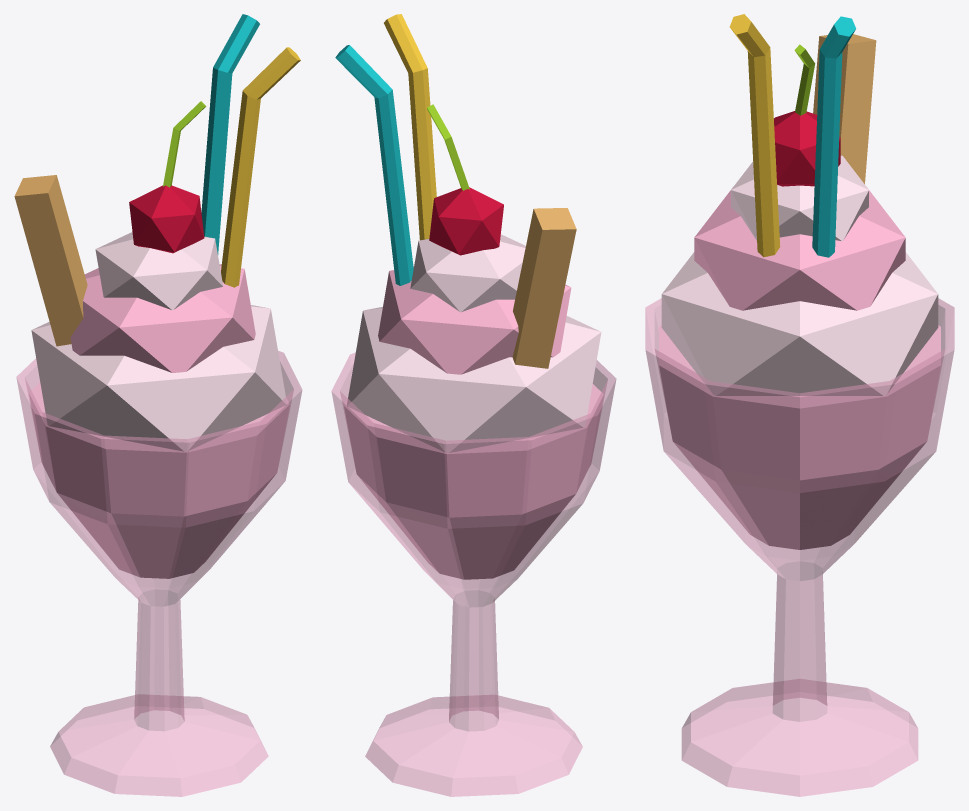
The picture shows the model from 3 angles, left to right: view 1: azimuth 30°, elevation 25°; view 2: azimuth 150°, elevation 25°; view 3: azimuth 270°, elevation 25°; orthographic projection. The views are drawn at different scales.
Parts seen in each view (by area): view 1: goblet, shake, cream_0, cream_1, wafer, cream_2, straw_1, straw_0, cherry, cherry_stem; view 2: goblet, shake, cream_0, cream_1, wafer, cream_2, straw_0, straw_1, cherry, cherry_stem; view 3: goblet, shake, cream_0, cream_1, straw_1, straw_0, cream_2, wafer, cherry, cherry_stem.
Part boxes in pixels (left/top/right/bottom): goblet: left=16, top=351, right=302, bottom=796; shake: left=29, top=382, right=289, bottom=578; cream_0: left=31, top=305, right=286, bottom=451; cream_1: left=70, top=264, right=255, bottom=372; wafer: left=14, top=175, right=87, bottom=346; cream_2: left=95, top=232, right=223, bottom=310; straw_1: left=221, top=47, right=300, bottom=287; straw_0: left=201, top=14, right=259, bottom=254; cherry: left=129, top=185, right=204, bottom=253; cherry_stem: left=163, top=101, right=206, bottom=187; goblet: left=331, top=352, right=616, bottom=796; shake: left=344, top=384, right=603, bottom=579; cream_0: left=347, top=307, right=601, bottom=452; cream_1: left=378, top=266, right=571, bottom=374; wafer: left=512, top=208, right=576, bottom=368; cream_2: left=410, top=234, right=525, bottom=312; straw_0: left=335, top=45, right=413, bottom=285; straw_1: left=384, top=14, right=436, bottom=240; cherry: left=429, top=187, right=503, bottom=255; cherry_stem: left=427, top=104, right=469, bottom=190; goblet: left=645, top=298, right=954, bottom=796; shake: left=659, top=325, right=940, bottom=549; cream_0: left=661, top=252, right=938, bottom=395; cream_1: left=694, top=187, right=905, bottom=310; straw_1: left=729, top=14, right=780, bottom=257; straw_0: left=812, top=16, right=856, bottom=257; cream_2: left=731, top=155, right=868, bottom=240; wafer: left=813, top=34, right=876, bottom=184; cherry: left=774, top=111, right=840, bottom=186; cherry_stem: left=794, top=44, right=815, bottom=115.
Size of the model in its own units: 0.34 by 0.9085 by 0.3234.
